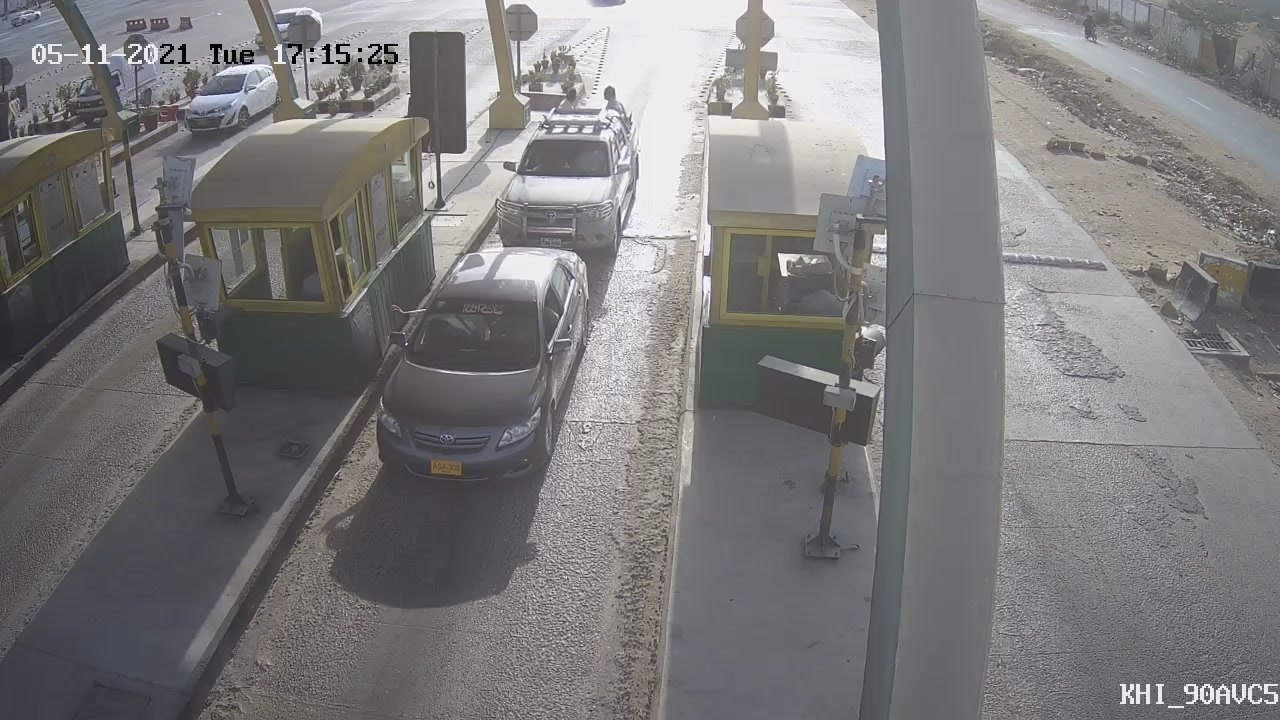F1: (347, 227, 611, 509), (476, 77, 656, 278)
